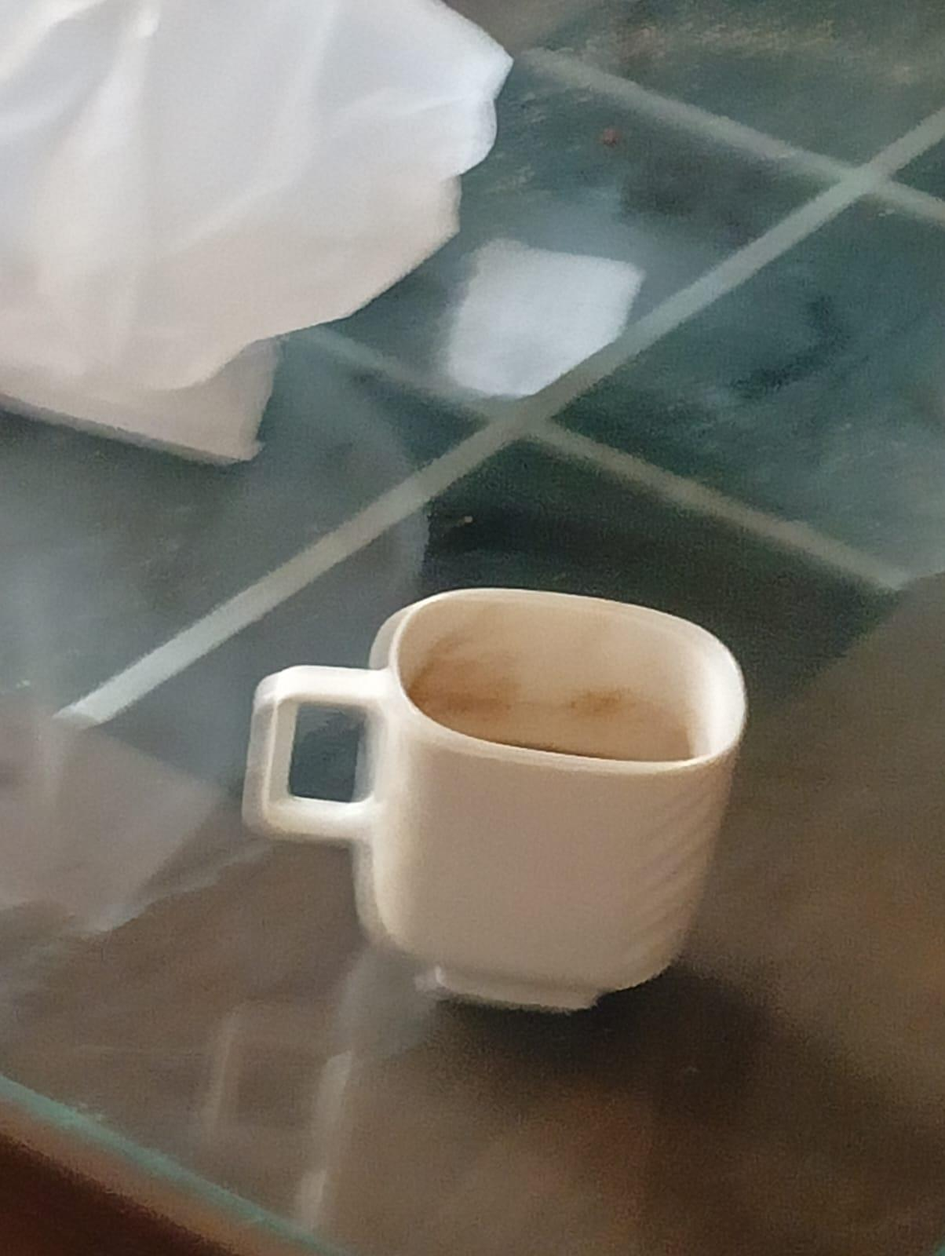cup: (244, 589, 745, 1008)
